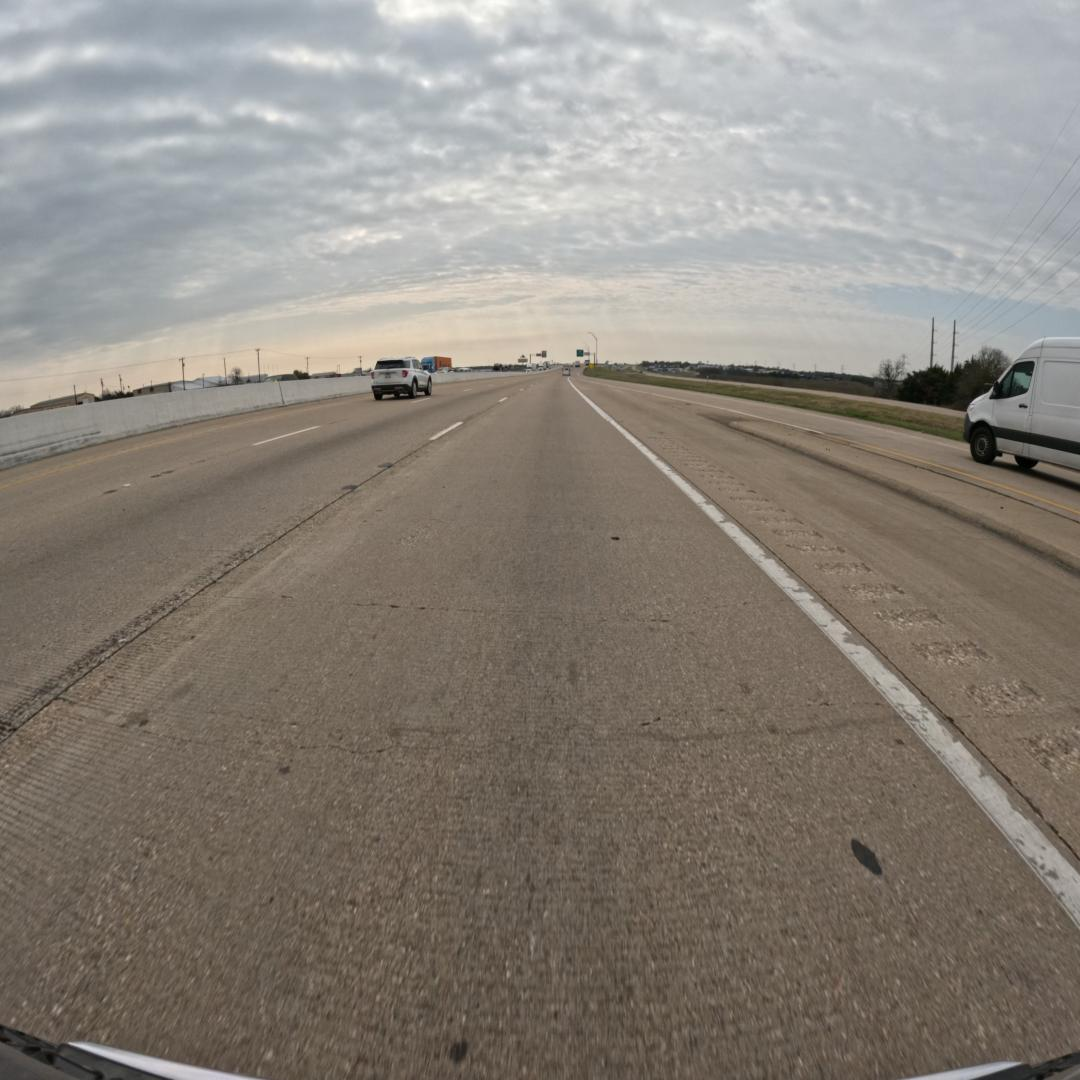lane0: (0, 376, 1080, 1077)
lane1: (0, 384, 509, 738)
